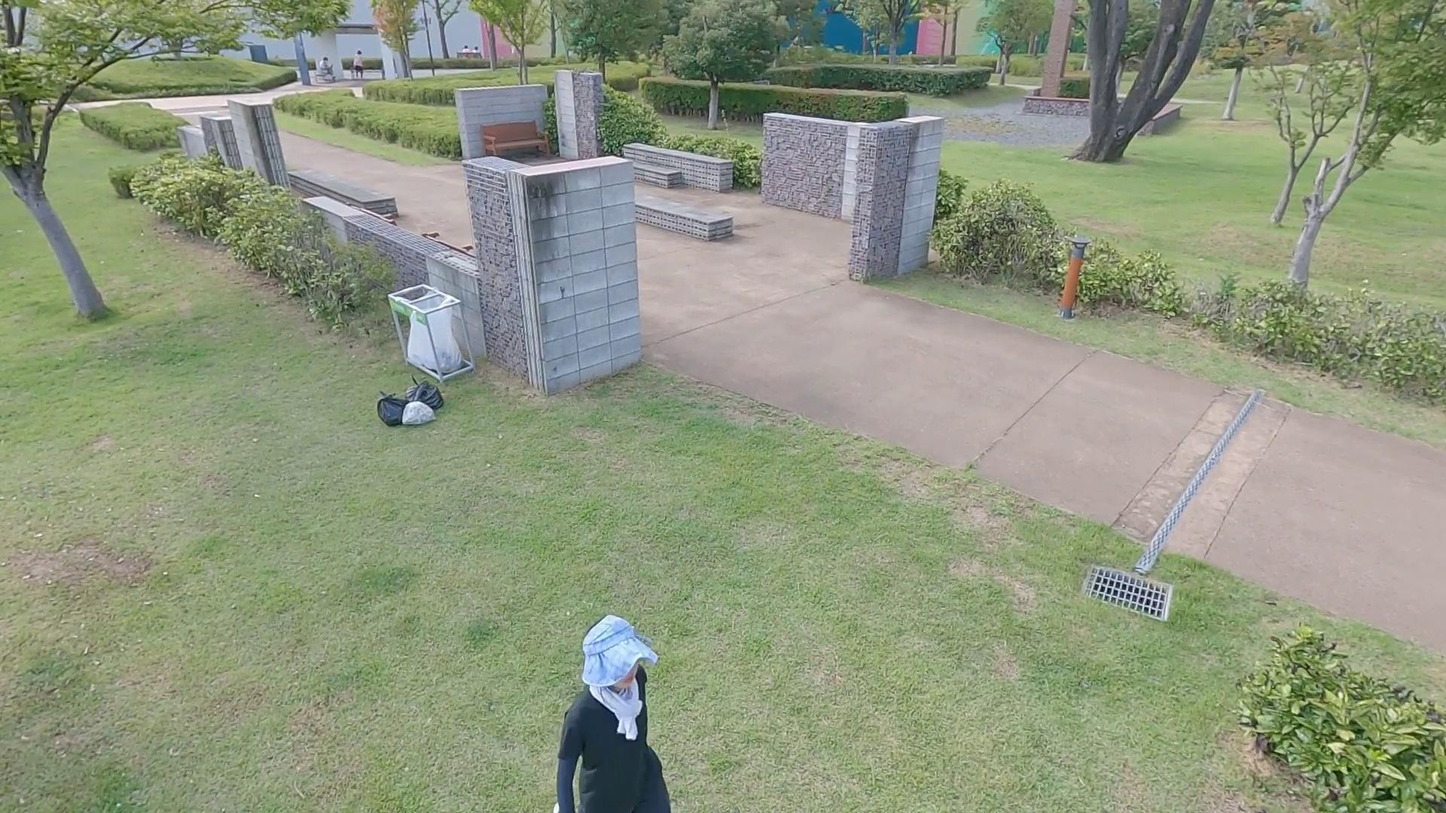person: (552, 613, 680, 813)
trash: (404, 376, 445, 412), (374, 390, 411, 427), (401, 394, 438, 428)
